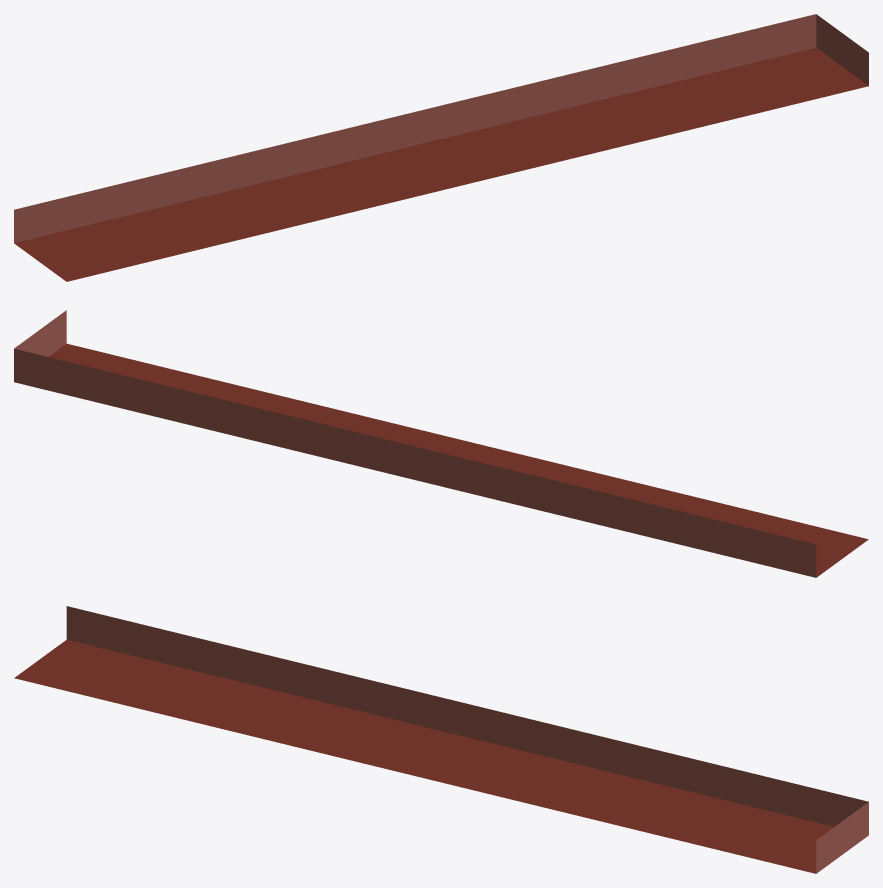
File: BeamGroundSideA.fbx
The picture shows the model from 3 angles, top to bottom: view 1: azimuth 30°, elevation 25°; view 2: azimuth 150°, elevation 25°; view 3: azimuth 330°, elevation 25°; orthographic projection.
Visible parts, largest first — view 1: BeamGroundSideA; view 2: BeamGroundSideA; view 3: BeamGroundSideA.
Part boxes in pixels (x1,y1,x2,y2): BeamGroundSideA: (14, 14, 868, 281); BeamGroundSideA: (14, 310, 868, 577); BeamGroundSideA: (14, 606, 868, 873).
Size of the model in its own units: 166 by 6.66 by 18.95.
